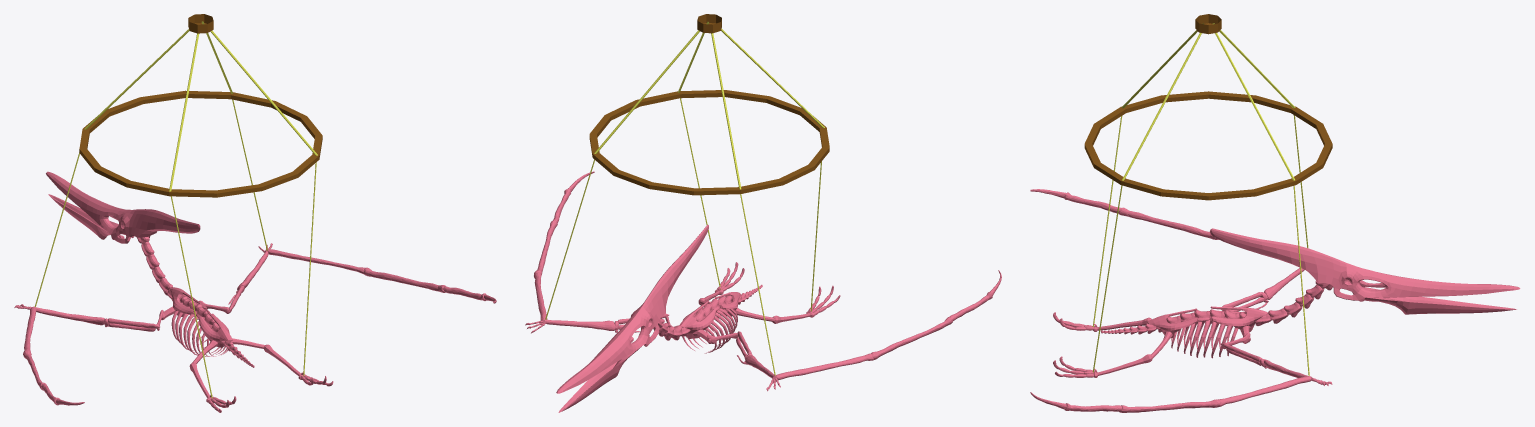
File: SM_BoneChandelier.fbx
3 views of the same model, side by side, from view 1: azimuth 30°, elevation 25°; view 2: azimuth 150°, elevation 25°; view 3: azimuth 270°, elevation 25° (orthographic). The views are drawn at different scales.
Visible parts, largest first — view 1: WoodRing, Wings, Skull, Ropes_Top, Ropes_Bottom, Spine, Legs, Ribs, Mouth, Ass, CelingMount, Shoulders; view 2: WoodRing, Wings, Skull, Ropes_Top, Ropes_Bottom, Legs, Spine, Mouth, Ribs, Shoulders, CelingMount; view 3: Skull, WoodRing, Wings, Spine, Mouth, Ropes_Top, Legs, Ropes_Bottom, Ribs, Shoulders, Ass, CelingMount.
Boxes of the visible parts, bbox=[...] form: WoodRing: bbox=[79, 90, 322, 197]; Wings: bbox=[14, 243, 496, 405]; Skull: bbox=[46, 171, 200, 243]; Ropes_Top: bbox=[84, 21, 317, 191]; Ropes_Bottom: bbox=[34, 99, 316, 398]; Spine: bbox=[137, 236, 254, 367]; Legs: bbox=[189, 338, 333, 412]; Ribs: bbox=[171, 311, 227, 356]; Mouth: bbox=[48, 194, 134, 239]; Ass: bbox=[199, 309, 232, 347]; CelingMount: bbox=[188, 14, 213, 33]; Shoulders: bbox=[170, 287, 207, 316]; WoodRing: bbox=[589, 90, 829, 195]; Wings: bbox=[525, 171, 1001, 391]; Skull: bbox=[556, 224, 708, 393]; Ropes_Top: bbox=[594, 21, 824, 189]; Ropes_Bottom: bbox=[545, 98, 821, 375]; Legs: bbox=[698, 262, 840, 323]; Spine: bbox=[653, 284, 762, 340]; Mouth: bbox=[558, 337, 641, 412]; Ribs: bbox=[682, 308, 737, 353]; Shoulders: bbox=[679, 300, 715, 338]; CelingMount: bbox=[697, 14, 721, 33]; Skull: bbox=[1209, 228, 1520, 301]; WoodRing: bbox=[1084, 91, 1332, 200]; Wings: bbox=[1030, 189, 1332, 412]; Spine: bbox=[1101, 281, 1332, 334]; Mouth: bbox=[1363, 287, 1516, 314]; Ropes_Top: bbox=[1121, 23, 1295, 180]; Legs: bbox=[1053, 312, 1172, 377]; Ropes_Bottom: bbox=[1092, 115, 1309, 375]; Ribs: bbox=[1171, 320, 1238, 358]; Shoulders: bbox=[1210, 306, 1267, 334]; Ass: bbox=[1147, 308, 1197, 337]; CelingMount: bbox=[1195, 14, 1221, 34].
Size of the model in its own units: 181 by 132 by 175.
